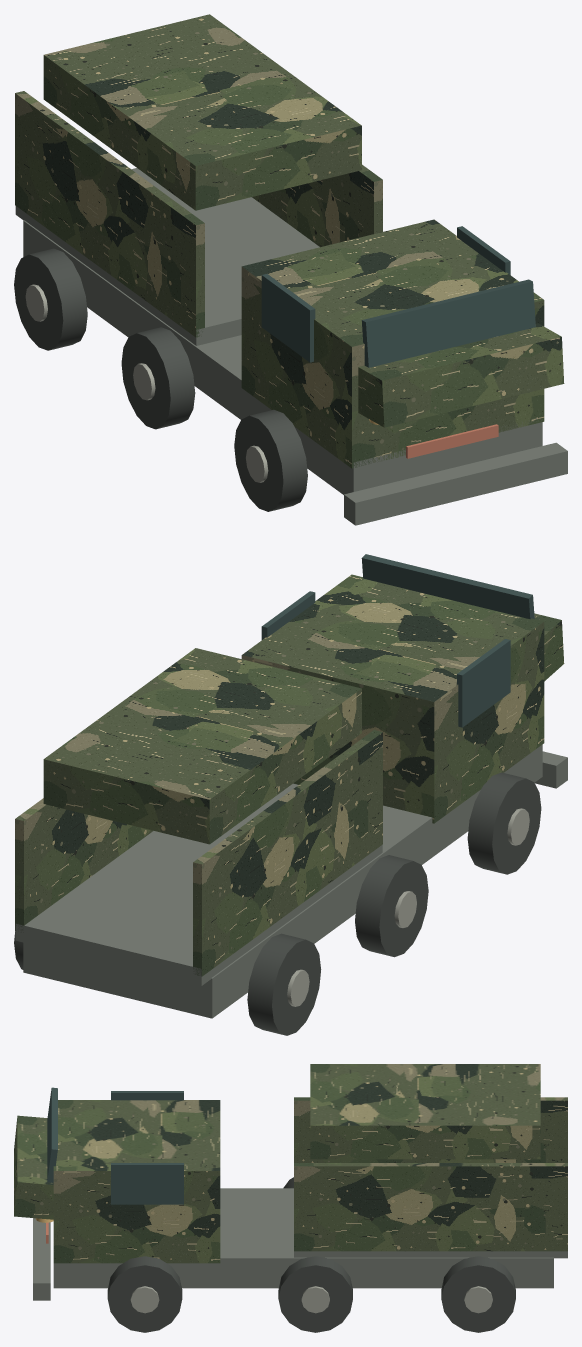
File: ural-4320.glb
The picture shows the model from 3 angles, top to bottom: view 1: azimuth 30°, elevation 25°; view 2: azimuth 150°, elevation 25°; view 3: azimuth 270°, elevation 25°; orthographic projection. The views are drawn at different scales.
Visible parts, largest first — view 1: Roof canvas / supply cover, Cab lower shell, Cargo sideboard (×2), Heavy truck wheel (×3), Ladder frame chassis, Hood, Cargo bed floor, Cab windshield, Front bumper, Cab side glass (×2), Wheel hub (×3), Faction identification plate; view 2: Roof canvas / supply cover, Cab lower shell, Cargo sideboard (×2), Cargo bed floor, Heavy truck wheel (×3), Ladder frame chassis, Cab windshield, Cab side glass (×2), Wheel hub (×3), Hood, Front bumper; view 3: Cargo sideboard (×2), Cab lower shell, Roof canvas / supply cover, Ladder frame chassis, Heavy truck wheel (×3), Cab side glass (×2), Hood, Cargo bed floor, Wheel hub (×3), Front bumper, Cab windshield.
Part boxes in pixels (x1,y1,x2,y2): Roof canvas / supply cover: (43,14,361,210); Cab lower shell: (241,219,544,468); Cargo sideboard (×2): (15,91,382,337); Heavy truck wheel (×3): (14,248,307,511); Ladder frame chassis: (23,220,542,494); Hood: (358,323,564,427); Cargo bed floor: (15,168,319,345); Cab windshield: (361,279,535,367); Front bumper: (344,442,567,525); Cab side glass (×2): (261,226,510,362); Wheel hub (×3): (25,284,268,482); Faction identification plate: (406,424,498,458); Roof canvas / supply cover: (43,648,361,844); Cab lower shell: (241,574,544,823); Cargo sideboard (×2): (15,730,382,976); Cargo bed floor: (15,807,382,985); Heavy truck wheel (×3): (247,772,541,1035); Ladder frame chassis: (23,744,542,1018); Cab windshield: (361,554,534,619); Cab side glass (×2): (261,591,510,727); Wheel hub (×3): (287,808,529,1006); Hood: (534,613,564,681); Front bumper: (534,751,567,788); Cargo sideboard (×2): (294,1097,567,1251); Cab lower shell: (53,1100,220,1263); Roof canvas / supply cover: (310,1064,540,1159); Ladder frame chassis: (53,1188,553,1288); Heavy truck wheel (×3): (107,1256,515,1332); Cab side glass (×2): (111,1091,183,1204); Hood: (14,1115,53,1219); Cargo bed floor: (294,1251,567,1258); Wheel hub (×3): (130,1286,492,1313); Front bumper: (33,1218,50,1300); Cab windshield: (47,1087,57,1182).
Size of the model in its own units: 2.92 by 2.65 by 6.97.
Materials: 7 (1 with a texture image).
